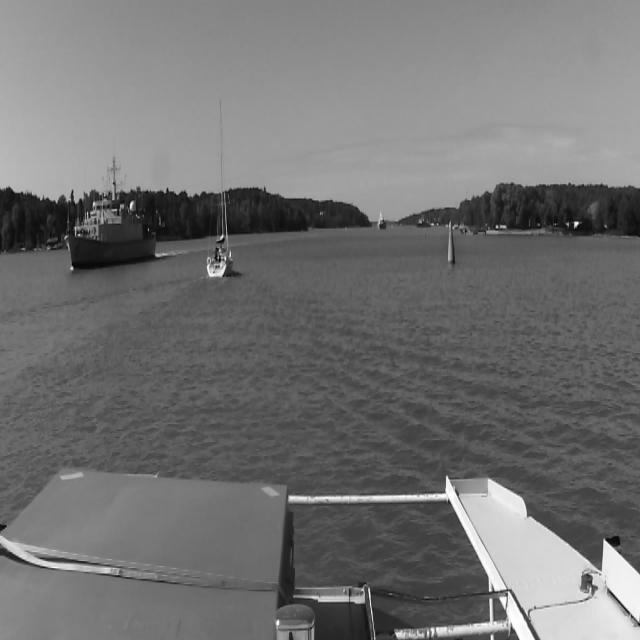buoy: (448, 225, 456, 265)
ship: (66, 153, 158, 271), (208, 100, 232, 274), (416, 214, 432, 228), (378, 212, 387, 230)
